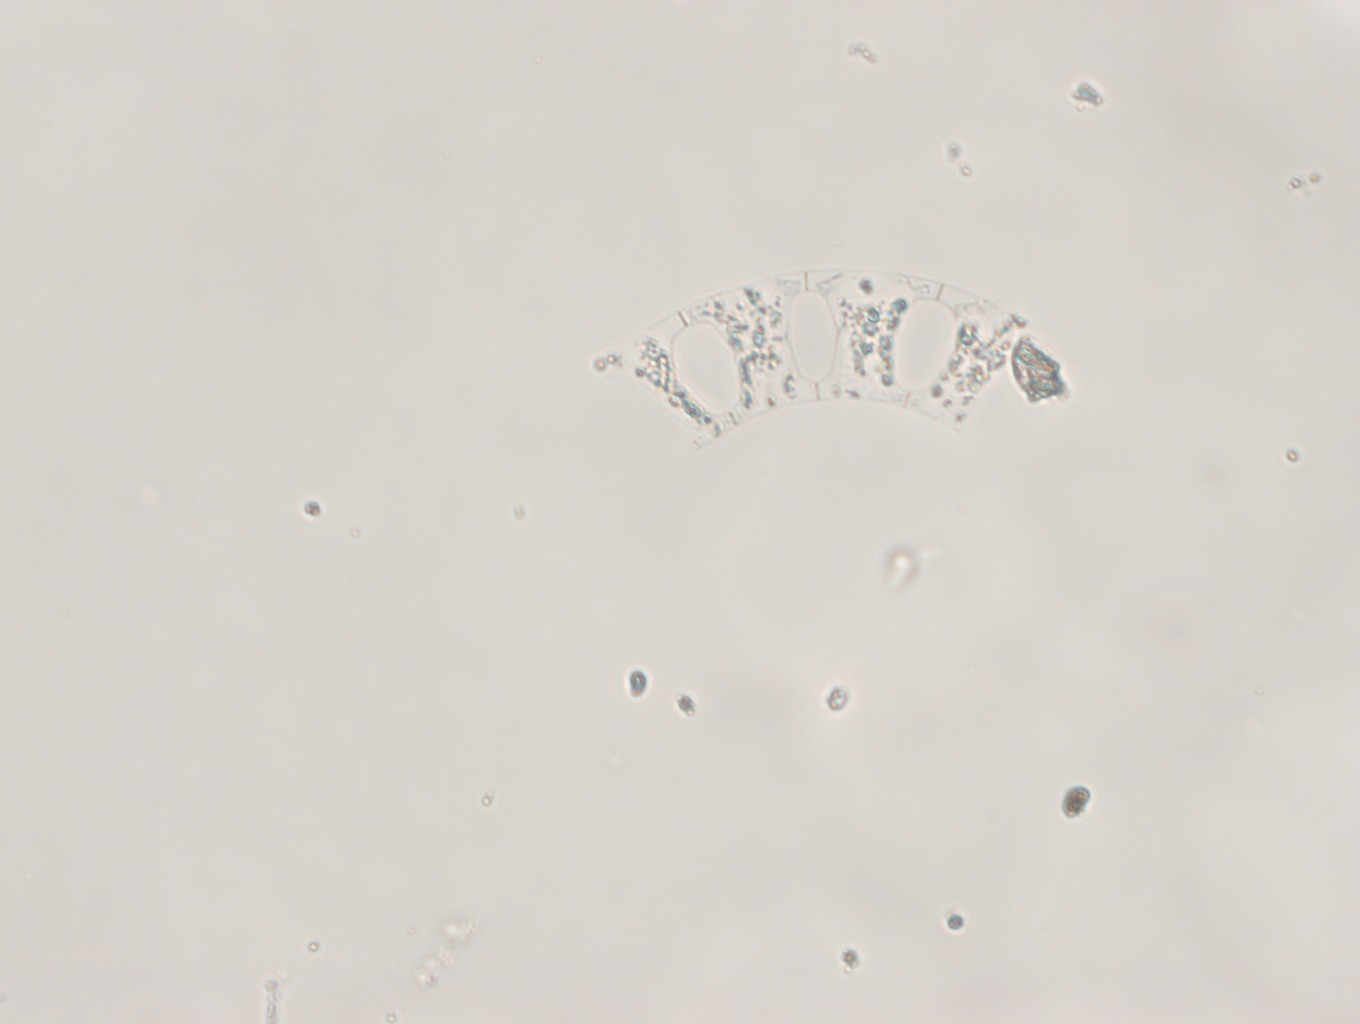eucampia: (566, 240, 1030, 460)
